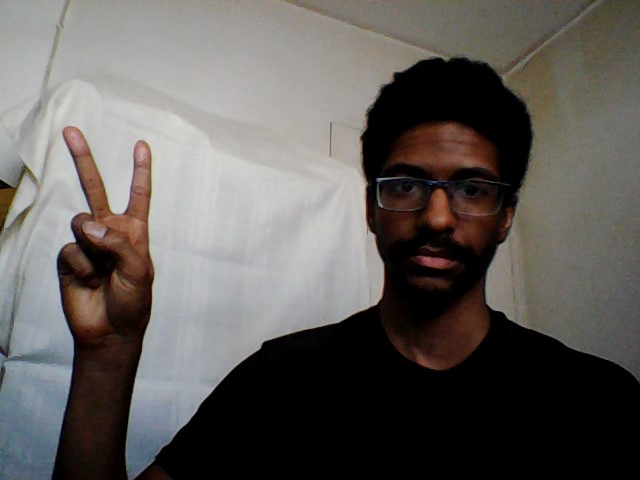v: (52, 122, 160, 341)
